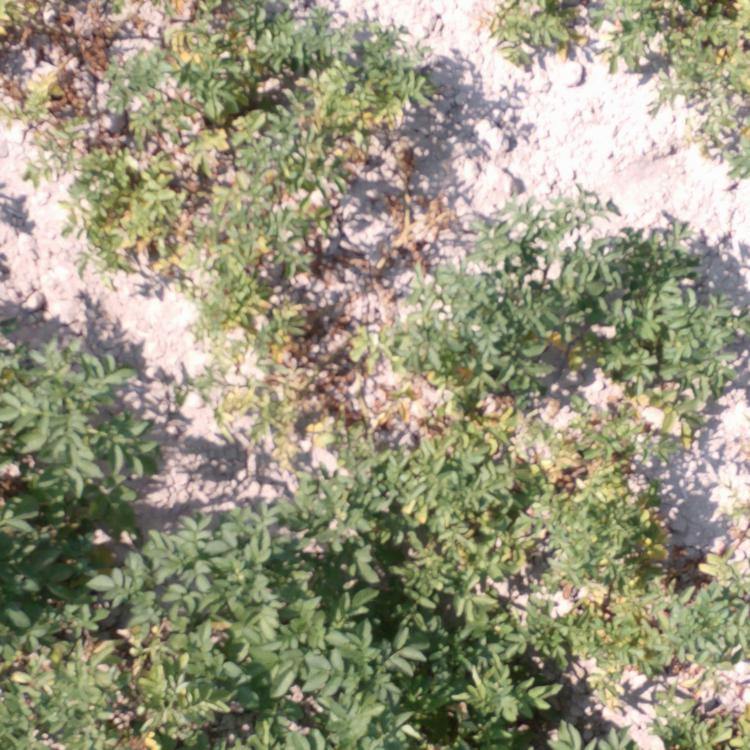healthy: (150, 475, 362, 639), (251, 646, 558, 750), (366, 213, 586, 358), (587, 223, 747, 415), (1, 641, 254, 750), (1, 314, 166, 475), (1, 481, 155, 642), (368, 582, 556, 644)
stressed: (368, 367, 537, 583), (187, 272, 367, 472), (38, 124, 213, 269), (217, 120, 365, 269), (543, 416, 676, 573), (564, 571, 750, 679), (1, 1, 159, 121), (280, 15, 418, 119), (165, 1, 273, 115), (604, 1, 745, 63), (673, 63, 748, 178), (474, 1, 599, 65), (640, 685, 750, 747)
